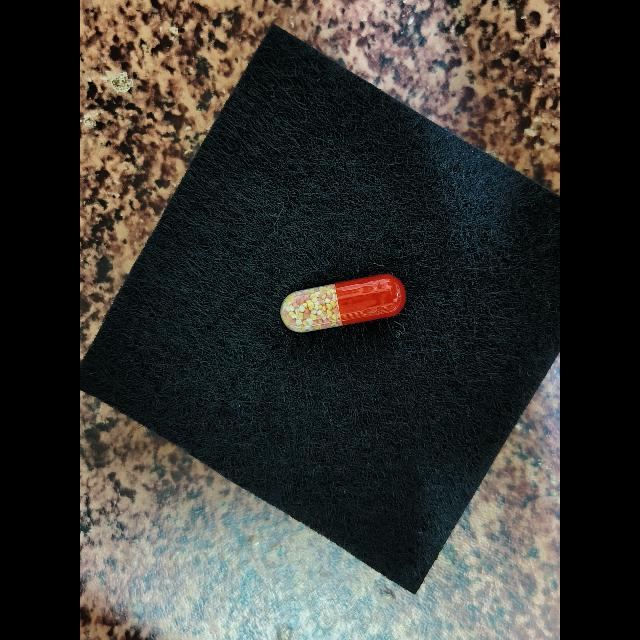Intact Capsule: (280, 274, 406, 333)
